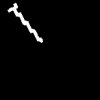half_double_crochet: (8, 3, 42, 41)
